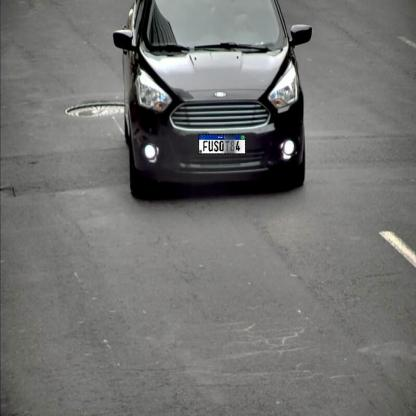PlacaM: (198, 134, 246, 154)
